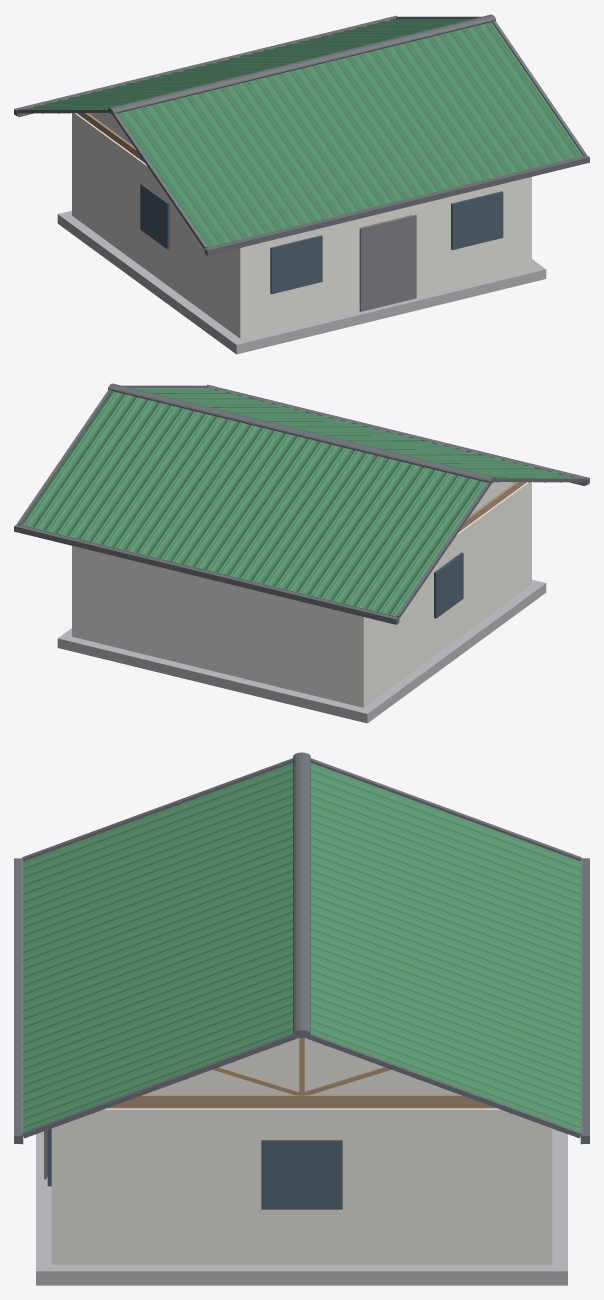
Rendered from Mega_Twin_Rib_Single_Storey_8x8.glb.
3 views of the same model, one above another, from view 1: azimuth 30°, elevation 25°; view 2: azimuth 150°, elevation 25°; view 3: azimuth 270°, elevation 25° (orthographic). The views are drawn at different scales.
Parts seen in each view (by area): view 1: GroundFloor_Walls, Foundation, RoofSheet_05, RoofSheet_02, RoofSheet_04, RoofSheet_09, RoofSheet_07, RoofSheet_06, RoofSheet_08, RoofSheet_03, RoofSheet_10, RoofSheet_11 (+24 smaller); view 2: GroundFloor_Walls, Foundation, RoofSheet_16, RoofSheet_13, RoofSheet_15, RoofSheet_20, RoofSheet_18, RoofSheet_17, RoofSheet_19, RoofSheet_14, RoofSheet_21, RoofSheet_22 (+21 smaller); view 3: GroundFloor_Walls, Foundation, Gable_Wall_Right, RoofSheet_03, RoofSheet_06, RoofSheet_14, RoofSheet_17, RoofSheet_02, RoofSheet_07, RoofSheet_09, RoofSheet_13, RoofSheet_18 (+25 smaller).
Boxes of the visible parts, box(x1,y1,x2,y2) form: GroundFloor_Walls: box(72, 113, 531, 338); Foundation: box(57, 210, 546, 354); RoofSheet_05: box(252, 72, 377, 213); RoofSheet_02: box(149, 97, 274, 238); RoofSheet_04: box(218, 80, 343, 222); RoofSheet_09: box(390, 38, 515, 180); RoofSheet_07: box(321, 55, 446, 196); RoofSheet_06: box(287, 64, 411, 205); RoofSheet_08: box(356, 47, 480, 188); RoofSheet_03: box(184, 89, 308, 230); RoofSheet_10: box(425, 30, 549, 171); RoofSheet_11: box(459, 22, 582, 163); GroundFloor_Walls: box(72, 482, 531, 707); Foundation: box(57, 579, 546, 723); RoofSheet_16: box(226, 441, 351, 582); RoofSheet_13: box(329, 466, 454, 607); RoofSheet_15: box(260, 449, 385, 591); RoofSheet_20: box(88, 407, 213, 549); RoofSheet_18: box(157, 424, 282, 565); RoofSheet_17: box(192, 433, 316, 574); RoofSheet_19: box(123, 416, 247, 557); RoofSheet_14: box(295, 458, 419, 599); RoofSheet_21: box(54, 399, 178, 540); RoofSheet_22: box(21, 391, 144, 532); GroundFloor_Walls: box(51, 1108, 552, 1264); Foundation: box(36, 1128, 567, 1285); Gable_Wall_Right: box(146, 1038, 457, 1094); RoofSheet_03: box(22, 811, 293, 935); RoofSheet_06: box(22, 886, 293, 1010); RoofSheet_14: box(310, 811, 581, 935); RoofSheet_17: box(310, 886, 581, 1010); RoofSheet_02: box(22, 786, 293, 910); RoofSheet_07: box(22, 911, 293, 1035); RoofSheet_09: box(22, 961, 293, 1085); RoofSheet_13: box(310, 786, 581, 910); RoofSheet_18: box(310, 911, 581, 1035).
Size of the model in its own units: 10.49 by 4.97 by 9.2.
